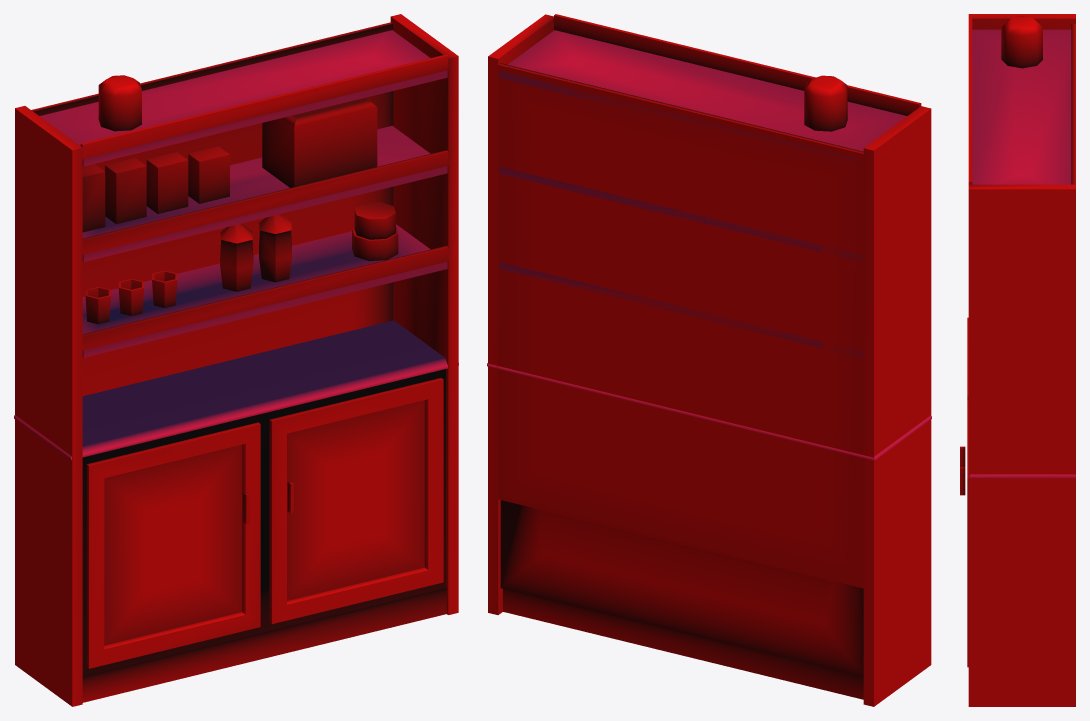
File: CI_Cafe_BackShelf.glb
3 renders of one model, left to right at view 1: azimuth 30°, elevation 25°; view 2: azimuth 150°, elevation 25°; view 3: azimuth 270°, elevation 25°, orthographic. The views are drawn at different scales.
Visible parts, largest first — view 1: CI_Cafe_BackShelf; view 2: CI_Cafe_BackShelf; view 3: CI_Cafe_BackShelf.
Boxes of the visible parts, box(x1,y1,x2,y2) form: CI_Cafe_BackShelf: box(14, 14, 458, 706); CI_Cafe_BackShelf: box(487, 14, 931, 706); CI_Cafe_BackShelf: box(960, 14, 1075, 706).
Bounding box in the file's own units: 1.4 × 2.02 × 0.389.
